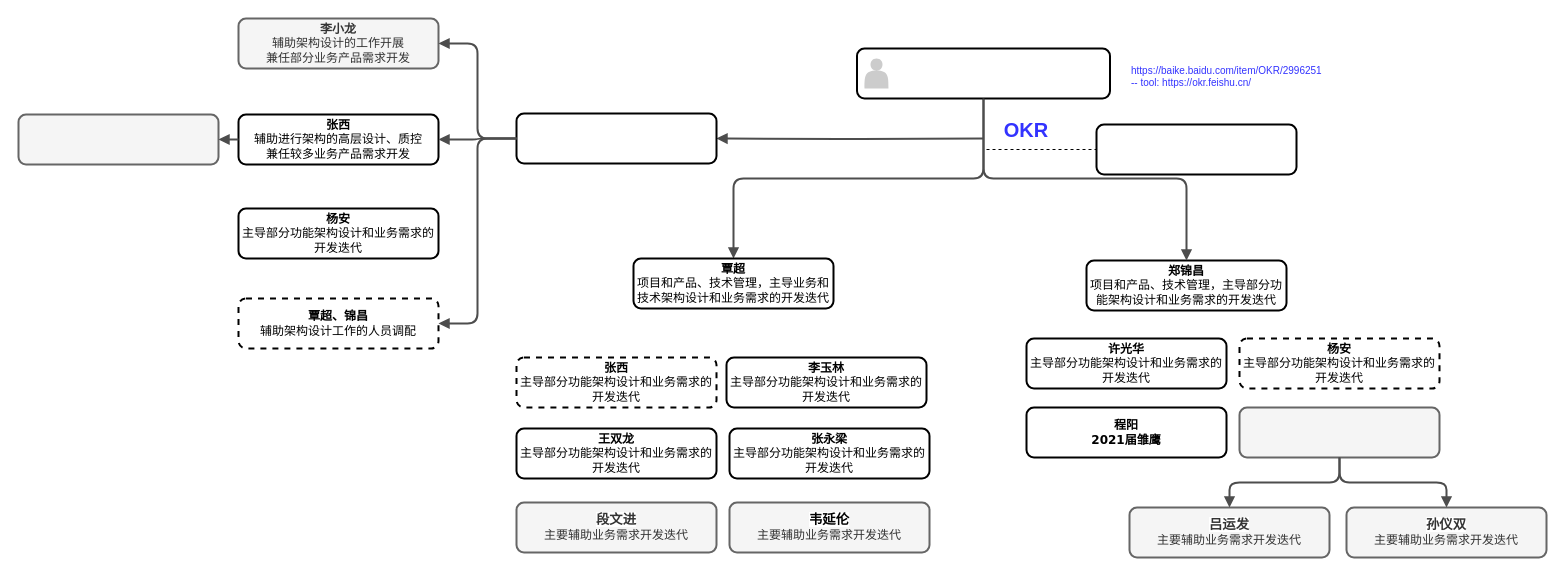
The diagram is 1564 pixels wide and 575 high, and some of its shapes have lost their labels. The box of each missing label's shape, as (x1, y1, x2, y2) in pixels:
刘勉柱 主要辅助业务需求开发迭代: (17, 113, 219, 165)
张灵俊 偏项目管理和产品需求拆解、新人指导、团队组织等，兼顾部分开发迭代: (1095, 123, 1297, 175)
罗嘉城 主导部分功能架构设计和业务需求的开发迭代: (1238, 406, 1440, 458)
谢唐瑜 整体技术和业务架构、质量管控等 兼任部分业务产品需求研发: (515, 112, 717, 164)
陈荣民 项目经理、技术管理和系统架构 mvp导师: (856, 47, 1110, 99)
